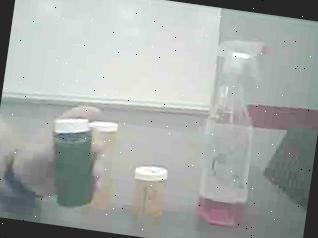Bottle A: (90, 120, 126, 210)
Bottle B: (124, 159, 177, 225)
Bottle C: (39, 116, 101, 208)
hazard: (188, 33, 278, 237)
